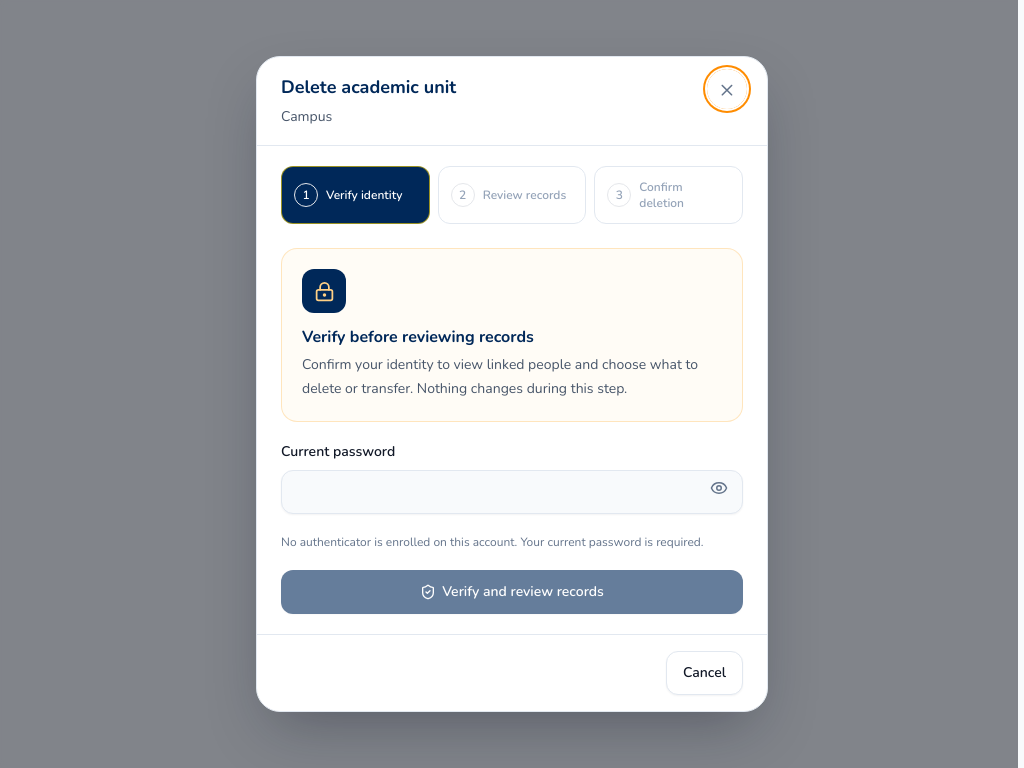
Test case: filters by people and search while preserving selections
The width and height of the screenshot is (1024, 768).
Type "current-password" into the password field labelled "Current password" at coordinates (512, 492), box x1=281 y1=470 x2=743 y2=514
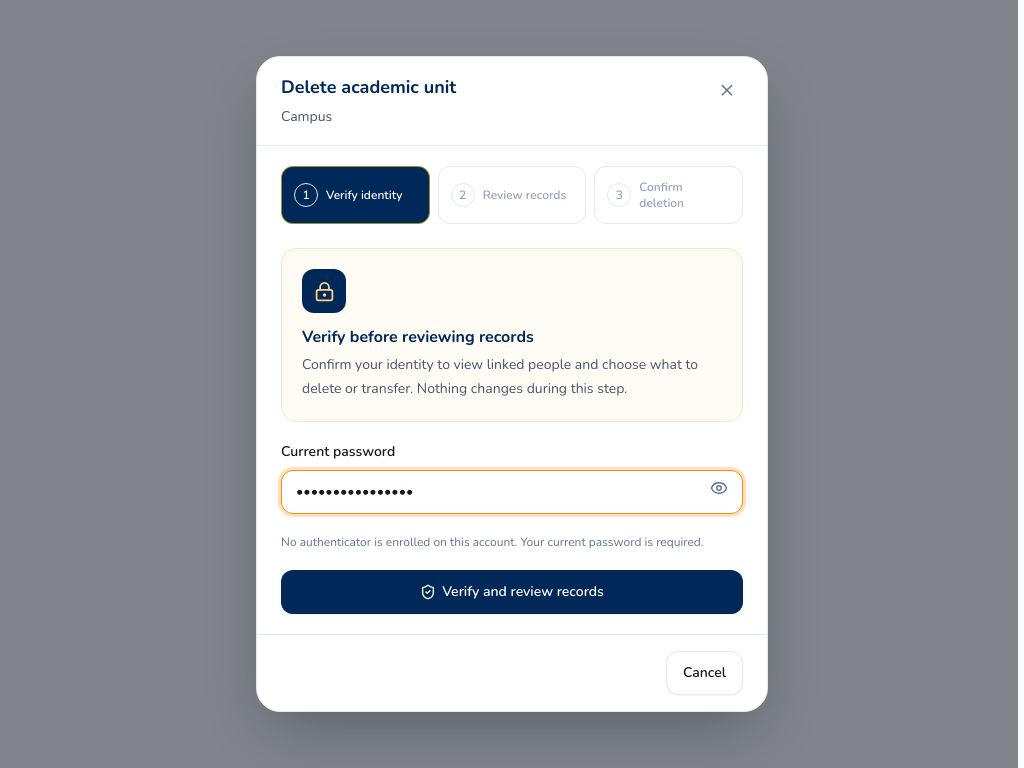
Click the button "Verify and review records" at coordinates (512, 592), box x1=281 y1=570 x2=743 y2=614
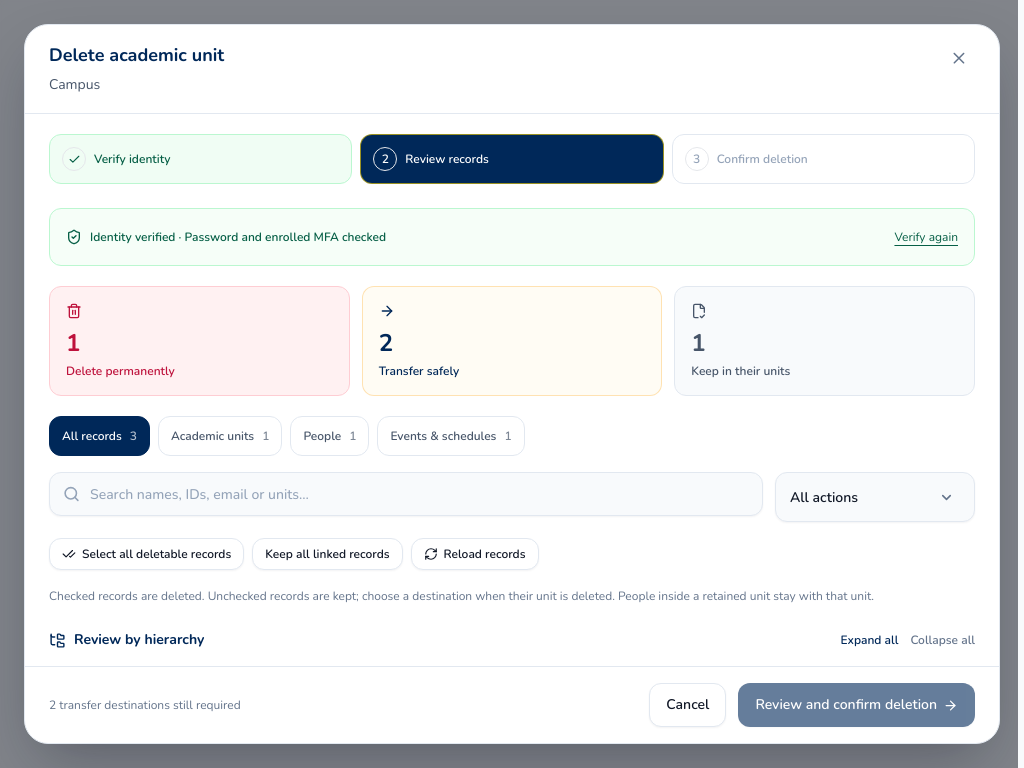
Expected: the button "Review and confirm deletion" is shown, x1=738 y1=683 x2=975 y2=727
Click the button "People1" at coordinates (330, 436), box x1=290 y1=416 x2=369 y2=456
(page scrolled)
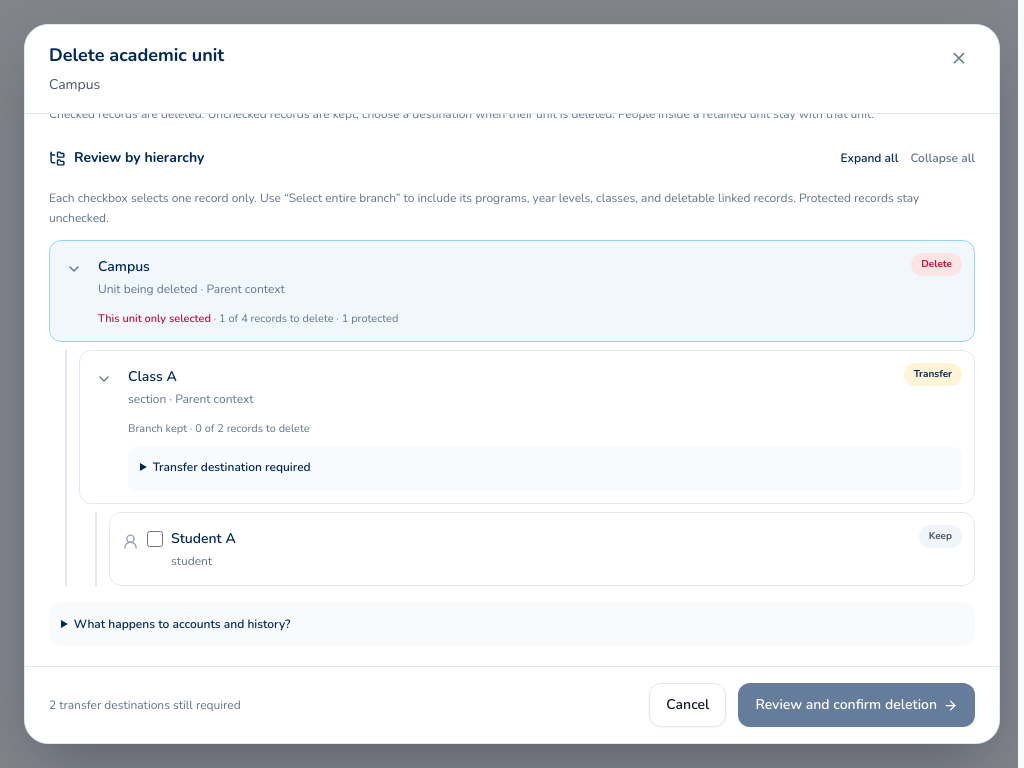
Click the checkbox labelled "Student A student" at coordinates (155, 539), box x1=147 y1=531 x2=163 y2=547
(page scrolled)
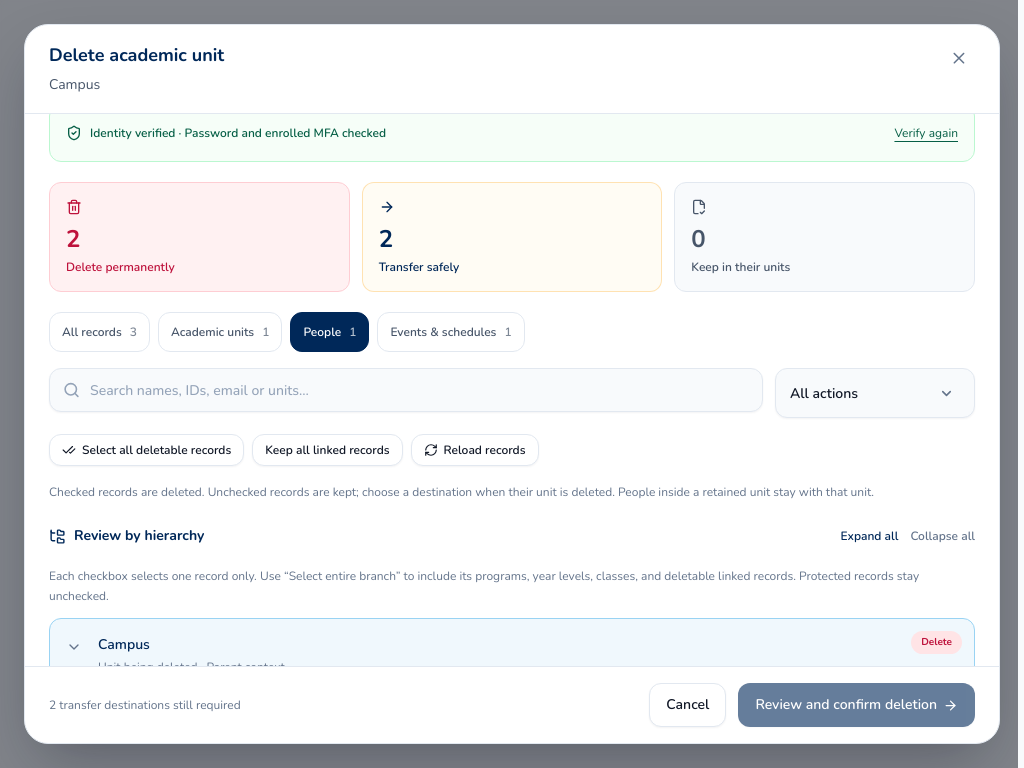
Type "unknown" into the search field named "Search linked records" at coordinates (406, 390), box x1=49 y1=368 x2=763 y2=412
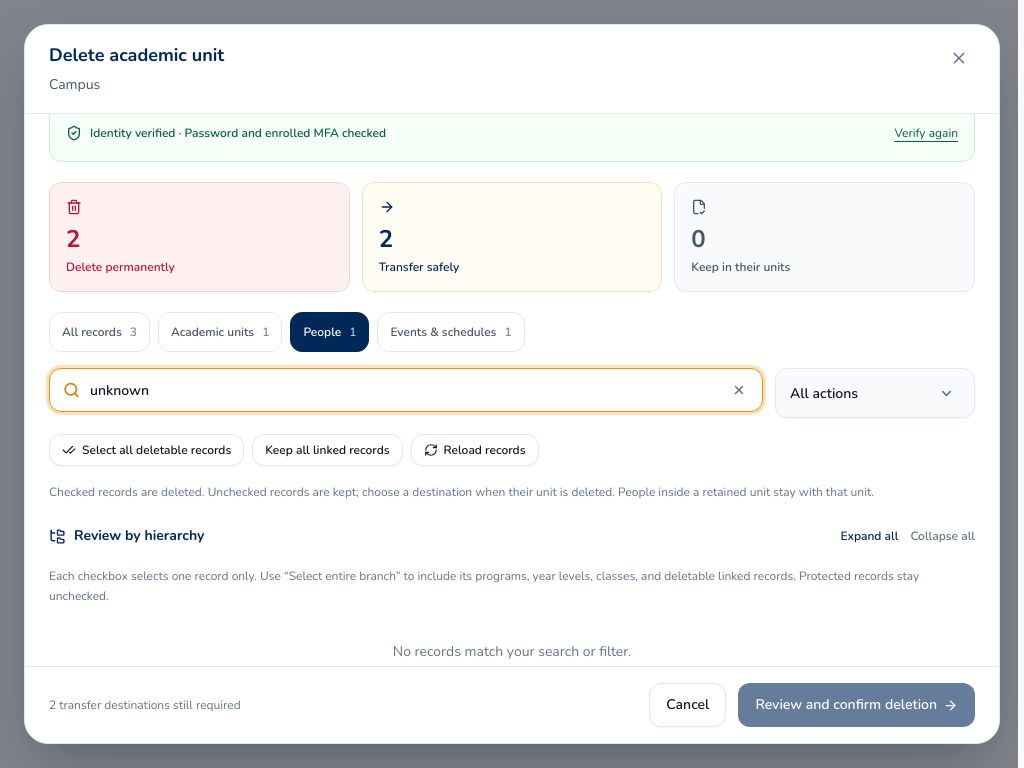
Expected: the text "No records match your search or filter." is shown, x1=393 y1=642 x2=631 y2=661
Clear the search field named "Search linked records" at coordinates (406, 390), box x1=49 y1=368 x2=763 y2=412
(page scrolled)
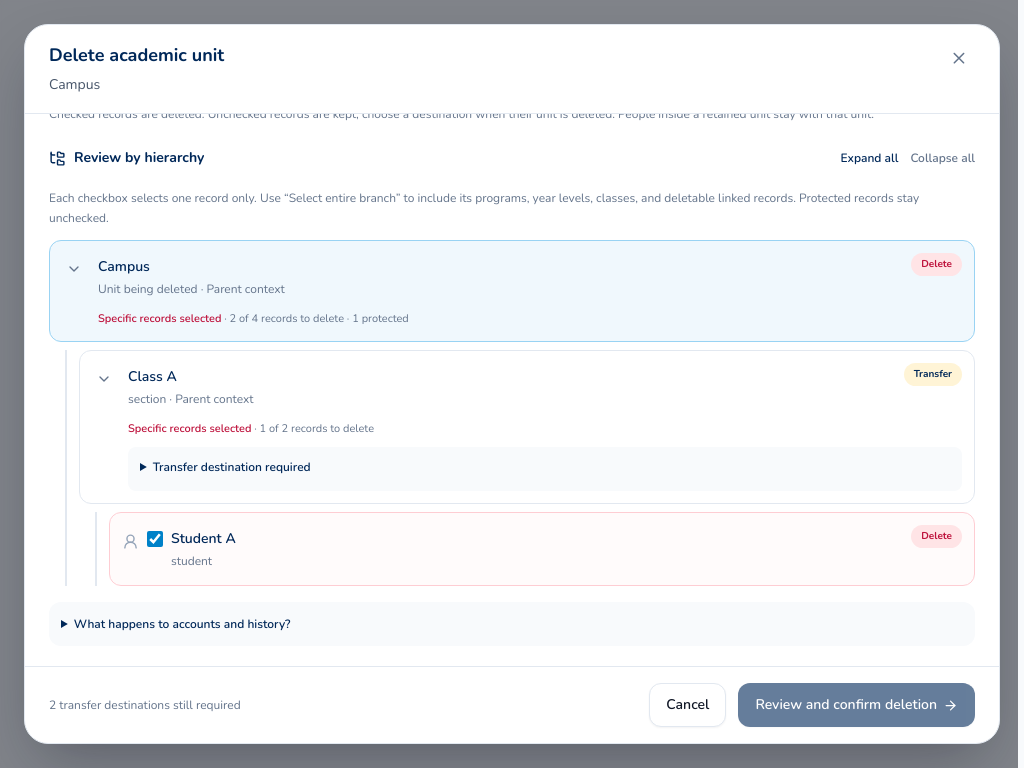
Expected: the checkbox labelled "Student A student" is checked, x1=147 y1=531 x2=163 y2=547
